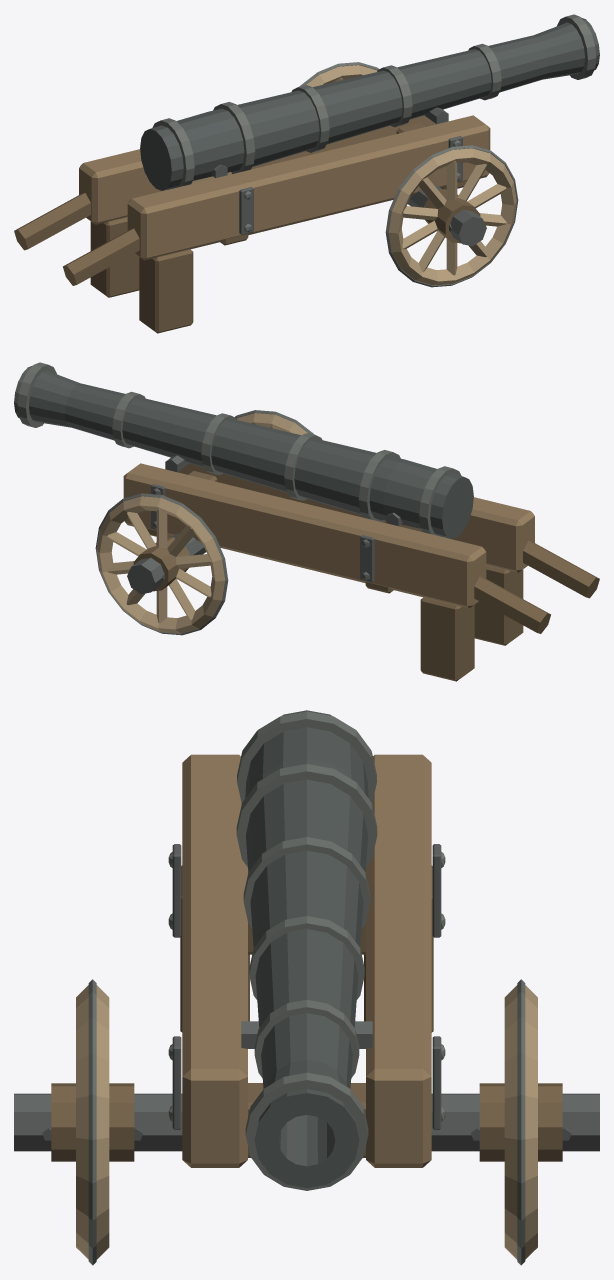
The model's file is artillery_tarasnice.glb.
The picture shows the model from 3 angles, top to bottom: view 1: azimuth 30°, elevation 25°; view 2: azimuth 150°, elevation 25°; view 3: azimuth 270°, elevation 25°; orthographic projection. The views are drawn at different scales.
Visible parts, largest first — view 1: artillery_tarasnice_oak, artillery_tarasnice_gun_iron, artillery_tarasnice_oak_dark, artillery_tarasnice_oak_light, artillery_tarasnice_gun_bands, artillery_tarasnice_iron; view 2: artillery_tarasnice_oak, artillery_tarasnice_gun_iron, artillery_tarasnice_oak_dark, artillery_tarasnice_oak_light, artillery_tarasnice_gun_bands, artillery_tarasnice_iron; view 3: artillery_tarasnice_oak, artillery_tarasnice_gun_iron, artillery_tarasnice_gun_bands, artillery_tarasnice_oak_light, artillery_tarasnice_iron, artillery_tarasnice_oak_dark.
Part boxes in pixels (x1=…): artillery_tarasnice_oak: x1=79, y1=115, x2=490, y2=260; artillery_tarasnice_gun_iron: x1=140, y1=17, x2=599, y2=190; artillery_tarasnice_oak_dark: x1=14, y1=123, x2=480, y2=333; artillery_tarasnice_oak_light: x1=191, y1=65, x2=516, y2=285; artillery_tarasnice_gun_bands: x1=152, y1=14, x2=596, y2=287; artillery_tarasnice_iron: x1=211, y1=107, x2=486, y2=246; artillery_tarasnice_oak: x1=123, y1=463, x2=534, y2=608; artillery_tarasnice_gun_iron: x1=14, y1=365, x2=473, y2=538; artillery_tarasnice_oak_dark: x1=133, y1=471, x2=599, y2=681; artillery_tarasnice_oak_light: x1=97, y1=413, x2=422, y2=633; artillery_tarasnice_gun_bands: x1=17, y1=362, x2=461, y2=635; artillery_tarasnice_iron: x1=127, y1=455, x2=402, y2=594; artillery_tarasnice_oak: x1=182, y1=754, x2=431, y2=1167; artillery_tarasnice_gun_iron: x1=245, y1=710, x2=368, y2=1187; artillery_tarasnice_gun_bands: x1=88, y1=711, x2=525, y2=1265; artillery_tarasnice_oak_light: x1=76, y1=985, x2=537, y2=1259; artillery_tarasnice_iron: x1=14, y1=844, x2=599, y2=1151; artillery_tarasnice_oak_dark: x1=51, y1=865, x2=562, y2=1161.
Size of the model in its own units: 2.71 by 0.8665 by 1.34.
